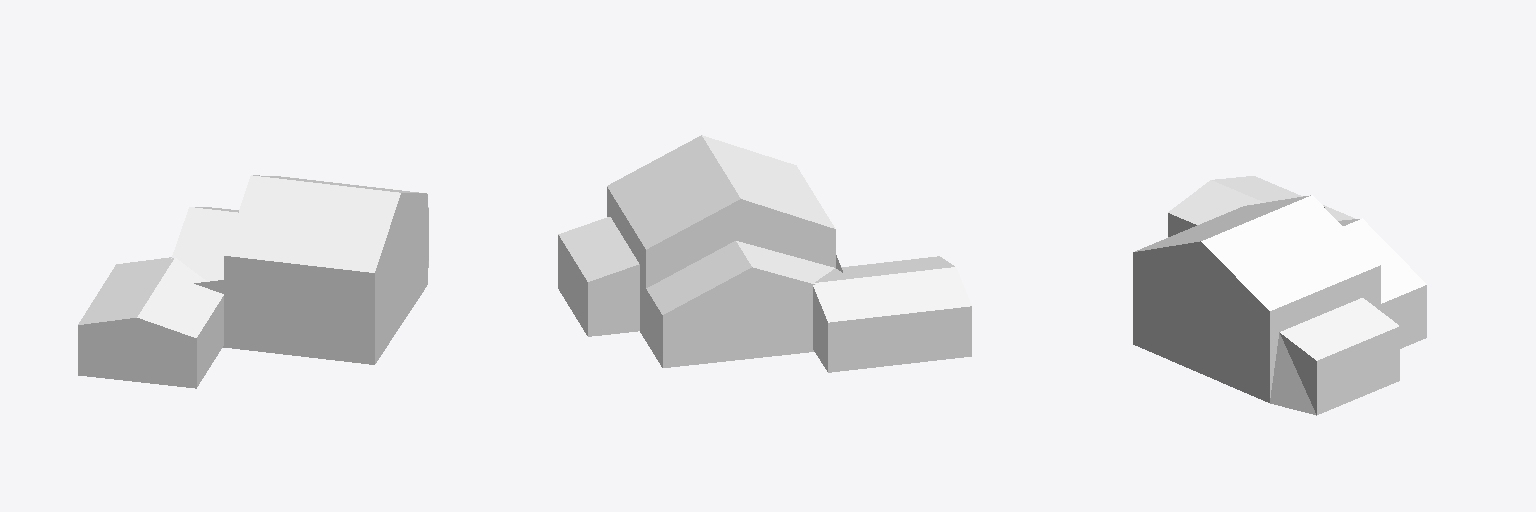
The model's file is house_Shape 260.obj.
3 views of the same model, side by side, from view 1: azimuth 30°, elevation 25°; view 2: azimuth 150°, elevation 25°; view 3: azimuth 270°, elevation 25° (orthographic).
Parts seen in each view (by area): view 1: CityEngineMaterial_4, CityEngineMaterial_167, CityEngineMaterial_168; view 2: CityEngineMaterial_4, CityEngineMaterial_167, CityEngineMaterial_168; view 3: CityEngineMaterial_4, CityEngineMaterial_168, CityEngineMaterial_167.
Boxes of the visible parts, x1=… form: CityEngineMaterial_4: x1=78, y1=175, x2=428, y2=337; CityEngineMaterial_167: x1=78, y1=175, x2=427, y2=388; CityEngineMaterial_168: x1=224, y1=193, x2=428, y2=296; CityEngineMaterial_4: x1=558, y1=135, x2=971, y2=322; CityEngineMaterial_167: x1=607, y1=208, x2=842, y2=367; CityEngineMaterial_168: x1=558, y1=187, x2=971, y2=372; CityEngineMaterial_4: x1=1135, y1=176, x2=1426, y2=360; CityEngineMaterial_168: x1=1133, y1=207, x2=1399, y2=415; CityEngineMaterial_167: x1=1133, y1=213, x2=1426, y2=402.
Size of the model in its own units: 26.54 by 8.79 by 17.7.